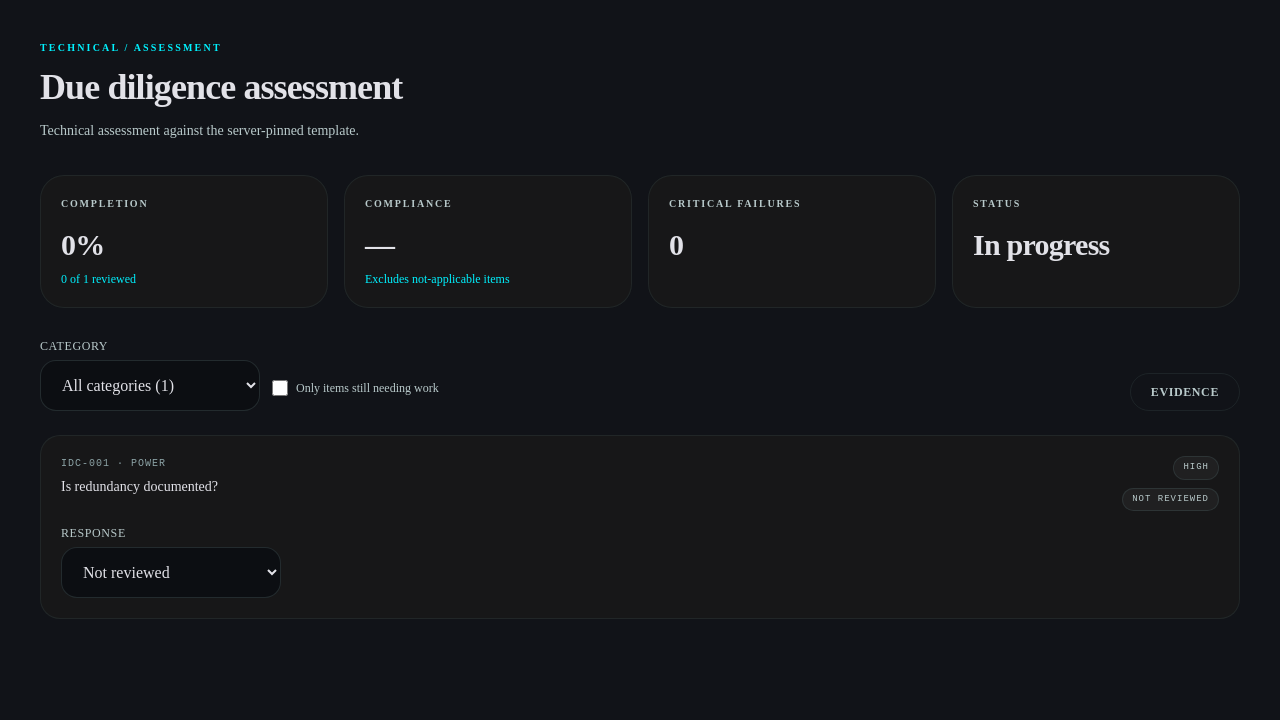
Test: AssessmentDetail OCC › reloads after a 409 instead of overwriting a stale DD response
Select "Compliant" in the dropdown labelled "Response" at (171, 572), box [61,547,281,598]
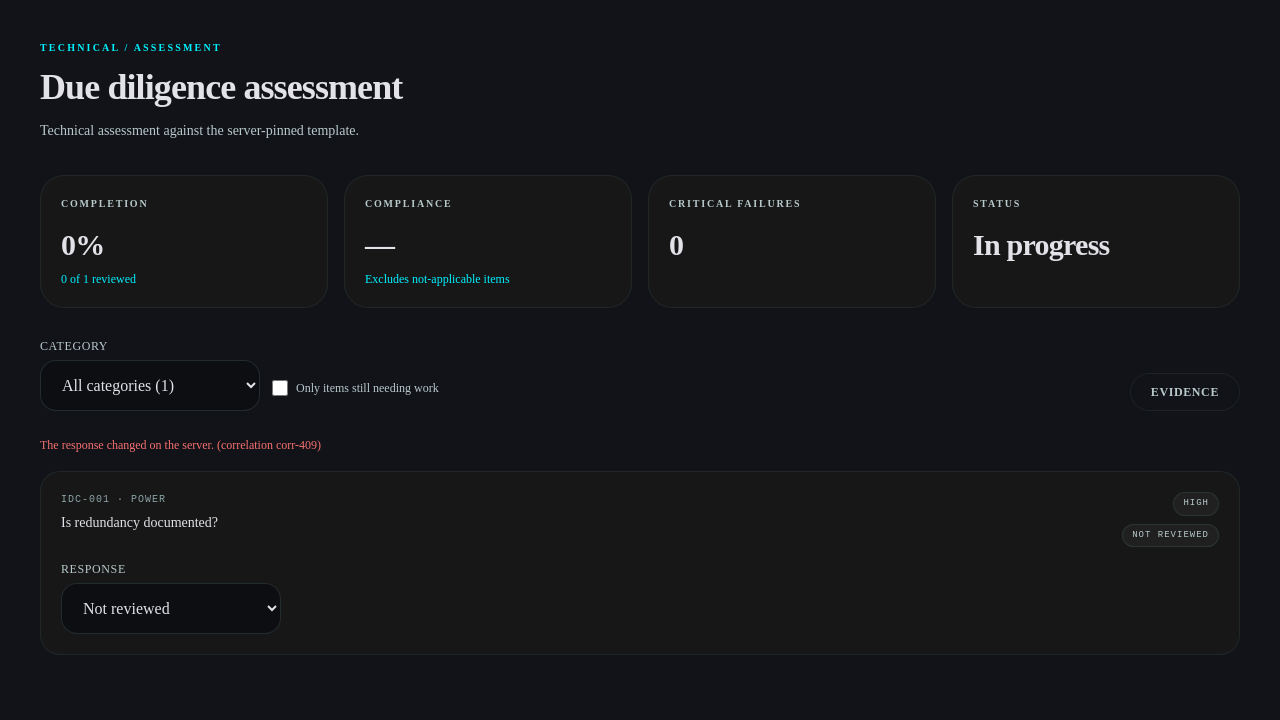
Expected: the message reads "The response changed on the server. (correlation corr-409)", [40,438,321,452]
